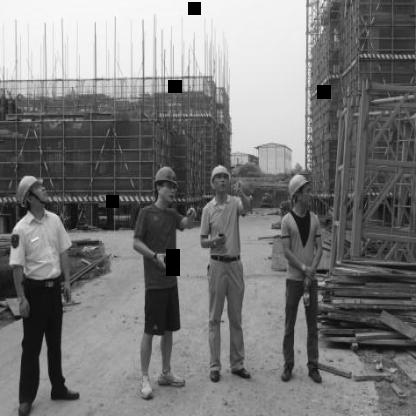helmet: (15, 172, 47, 210), (154, 168, 180, 204), (290, 172, 314, 210), (210, 164, 231, 193)
